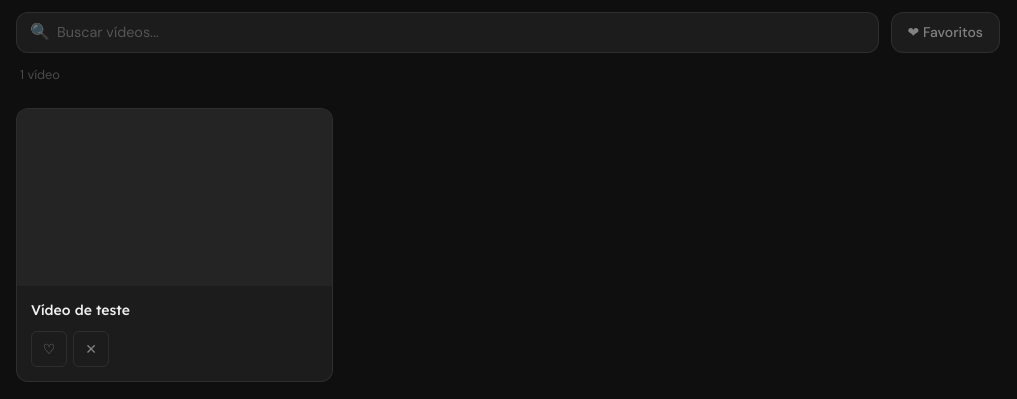
Test case: VideoList - favoritos e exclusão › desfavoritar reexibe o botão de ocultar
Click the button named "adicionar aos favoritos": (49, 349) [31,331,67,367]
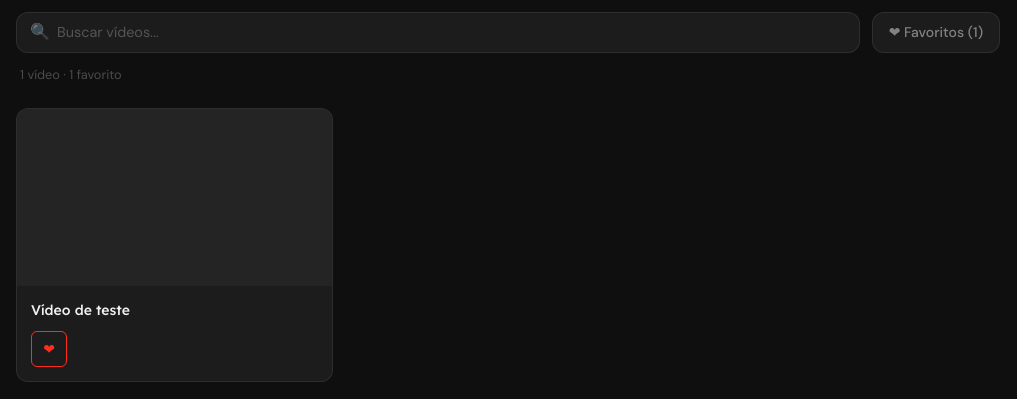
Click the button named "remover dos favoritos": (49, 349) [31,331,67,367]
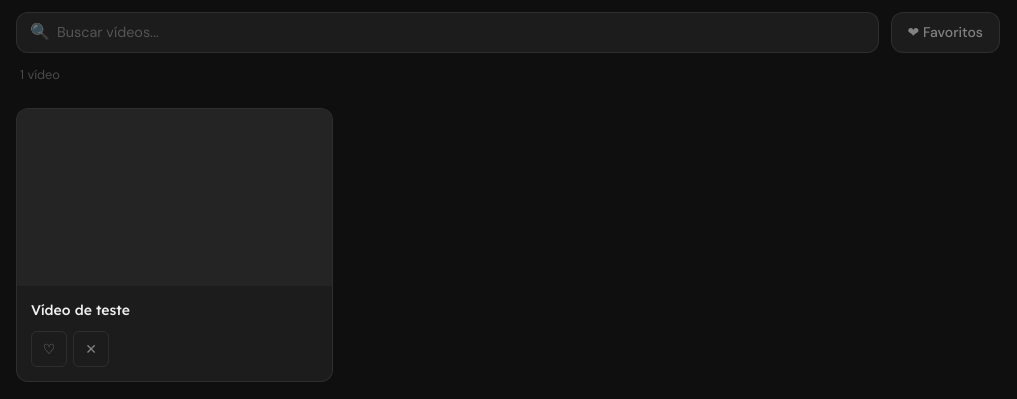
Now the button named "ocultar vídeo" is shown, box [73,331,109,367]
